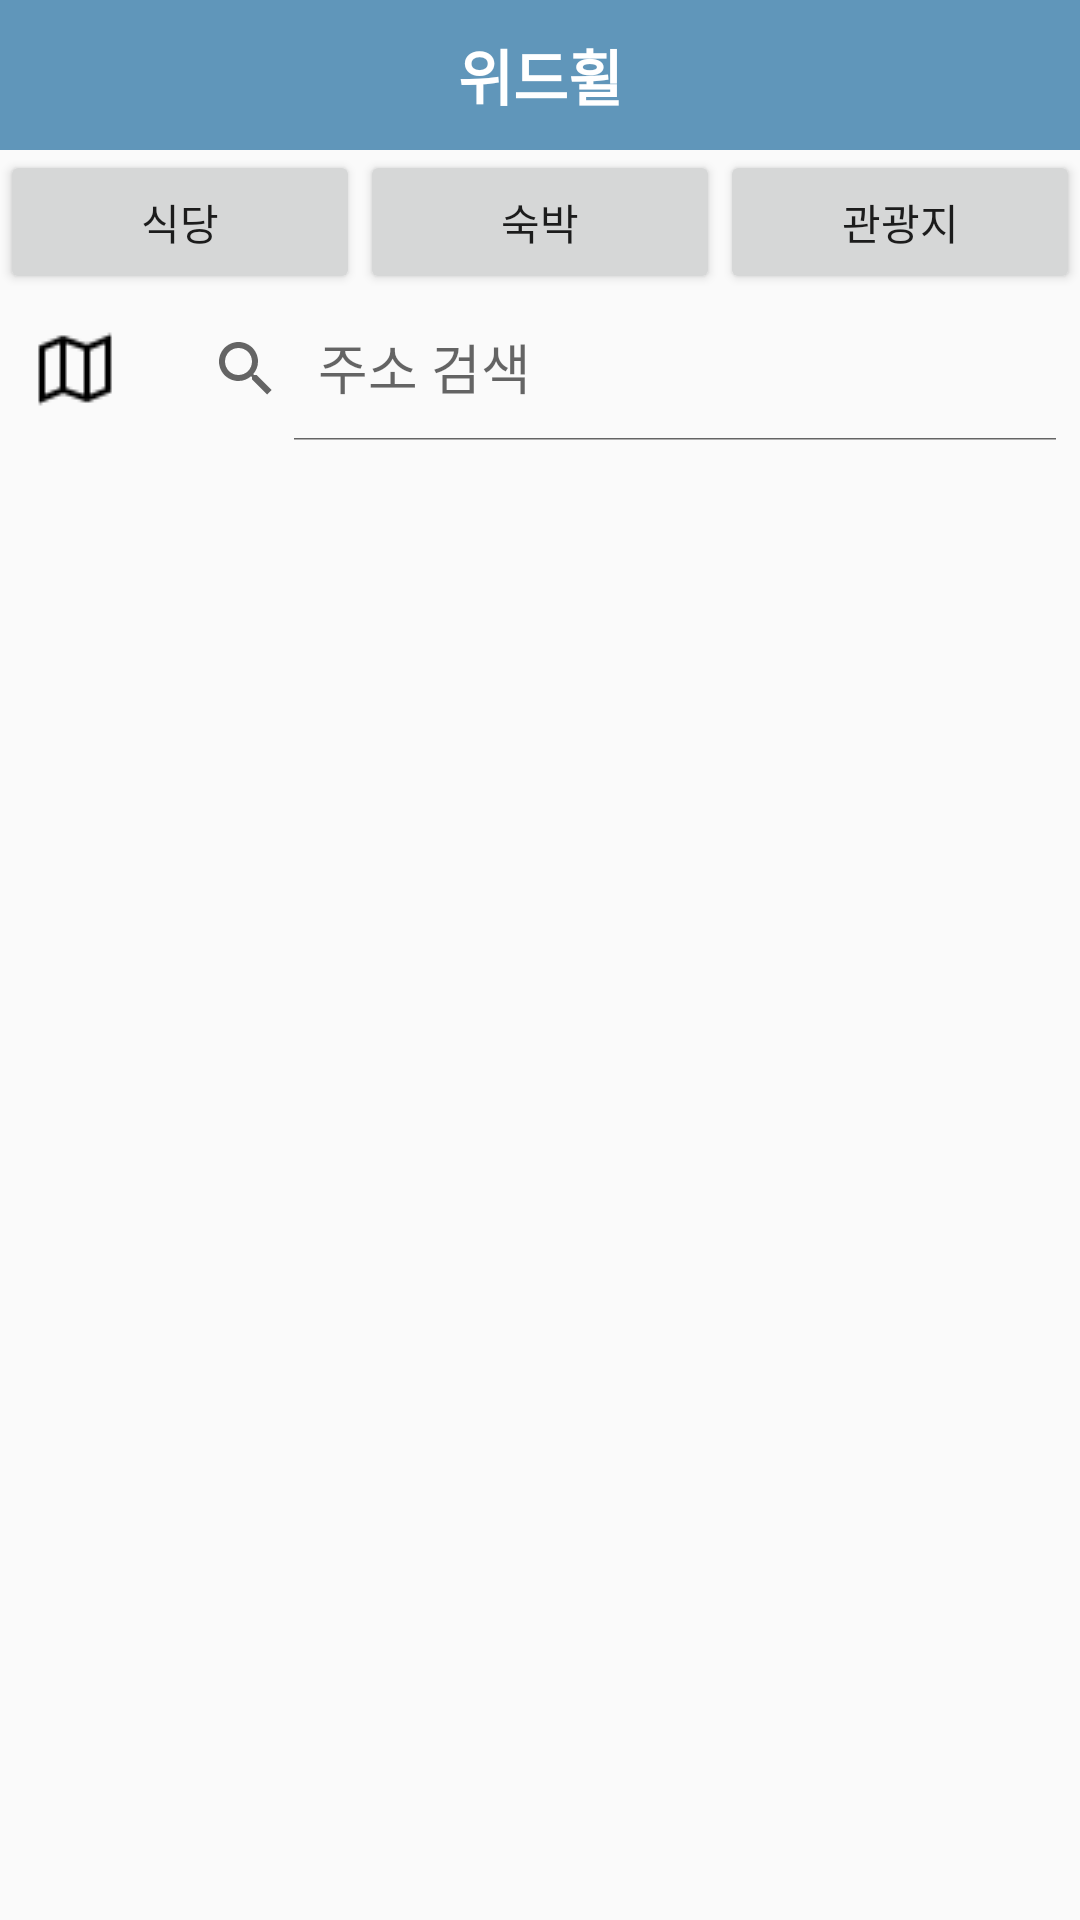

Point at icon controls on the screen. Image size 1080×1920, points as [x,y].
map: [75,369]
